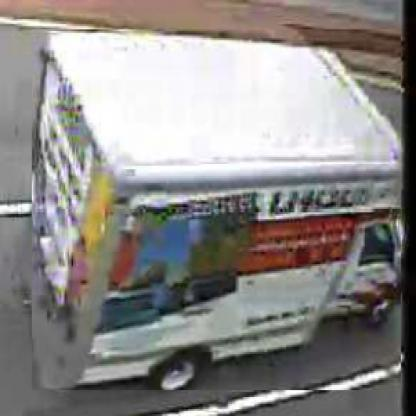truck: (33, 30, 403, 393)
